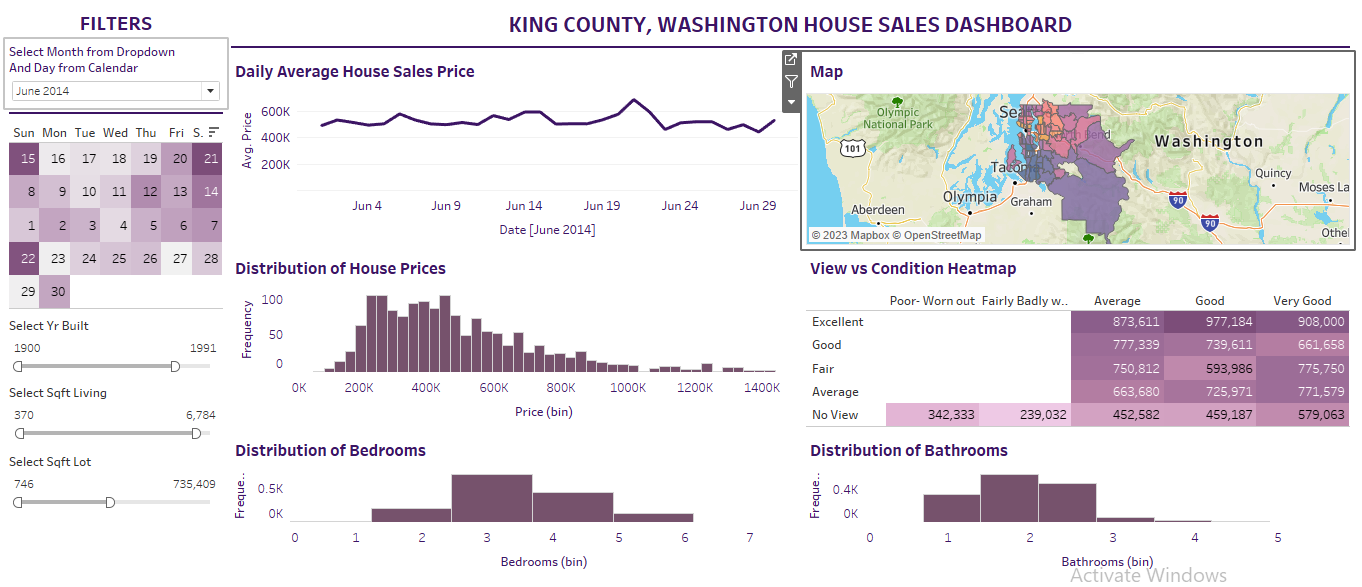

What the dashboard file says about the page in this screenshot:
{"tool":"tableau","page":{"name":"KingCountyHouseSales","canvas":[1000,1000],"units":"permille","ordinal":0},"visuals":[{"type":"text","box":[7.1,14.9,162.4,63.2]},{"type":"text","box":[169.5,14.9,823.4,68.8]},{"type":"filter","title":"Calendar","param":"[federated.03vvj2b00vrrz914s8nm30z9jm7c].[my:date:ok]","box":[7.1,78.1,162.4,128.2]},{"type":"blank","box":[169.5,83.6,823.4,18.6]},{"type":"worksheet","title":"Line Chart","mark":"Automatic","rows":["price"],"cols":["date"],"box":[169.5,102.2,420.1,323.4]},{"type":"worksheet","title":"Map","mark":"Automatic","box":[589.7,102.2,403.2,323.4]},{"type":"blank","box":[7.1,206.3,162.4,18.6]},{"type":"worksheet","title":"Calendar","mark":"Square","rows":["date"],"cols":["date"],"box":[7.1,224.9,162.4,362.4]},{"type":"worksheet","title":"HistHousePrice","mark":"Automatic","rows":["price"],"cols":["Price (bin)"],"box":[169.5,425.7,420.1,306.7]},{"type":"worksheet","title":"Heatmap","mark":"Square","rows":["view"],"cols":["condition"],"box":[589.6,425.7,403.3,306.7]},{"type":"filter","title":"Calendar","param":"[federated.03vvj2b00vrrz914s8nm30z9jm7c].[none:yr_built:qk]","box":[7.1,587.4,162.4,124.5]},{"type":"filter","title":"Calendar","param":"[federated.03vvj2b00vrrz914s8nm30z9jm7c].[none:sqft_living:qk]","box":[7.1,711.9,162.4,128.2]},{"type":"worksheet","title":"HistBedrooms","mark":"Automatic","rows":["bedrooms"],"cols":["Bedrooms (bin)"],"box":[169.5,732.3,420.1,252.8]},{"type":"worksheet","title":"HistBathrooms","mark":"Automatic","rows":["bathrooms"],"cols":["Bathrooms (bin)"],"box":[589.6,732.3,403.3,252.8]},{"type":"filter","title":"Calendar","param":"[federated.03vvj2b00vrrz914s8nm30z9jm7c].[none:sqft_lot:qk]","box":[7.1,840.1,162.4,128.2]}]}

Visuals, with their boxes on the dashboard's canvas, which has no fixed pixel size, in thousandths of its width and height (x1, y1, x2, y2). These are canvas units, not pixel positions in the 1362x587 screenshot, which may show the page scaled, cropped or inside an application window:
text: 7 15 170 78
text: 170 15 993 84
"Calendar" filter: 7 78 170 206
blank: 170 84 993 102
"Line Chart" worksheet: 170 102 590 426
"Map" worksheet: 590 102 993 426
blank: 7 206 170 225
"Calendar" worksheet (Square marks): 7 225 170 587
"HistHousePrice" worksheet: 170 426 590 732
"Heatmap" worksheet (Square marks): 590 426 993 732
"Calendar" filter: 7 587 170 712
"Calendar" filter: 7 712 170 840
"HistBedrooms" worksheet: 170 732 590 985
"HistBathrooms" worksheet: 590 732 993 985
"Calendar" filter: 7 840 170 968
